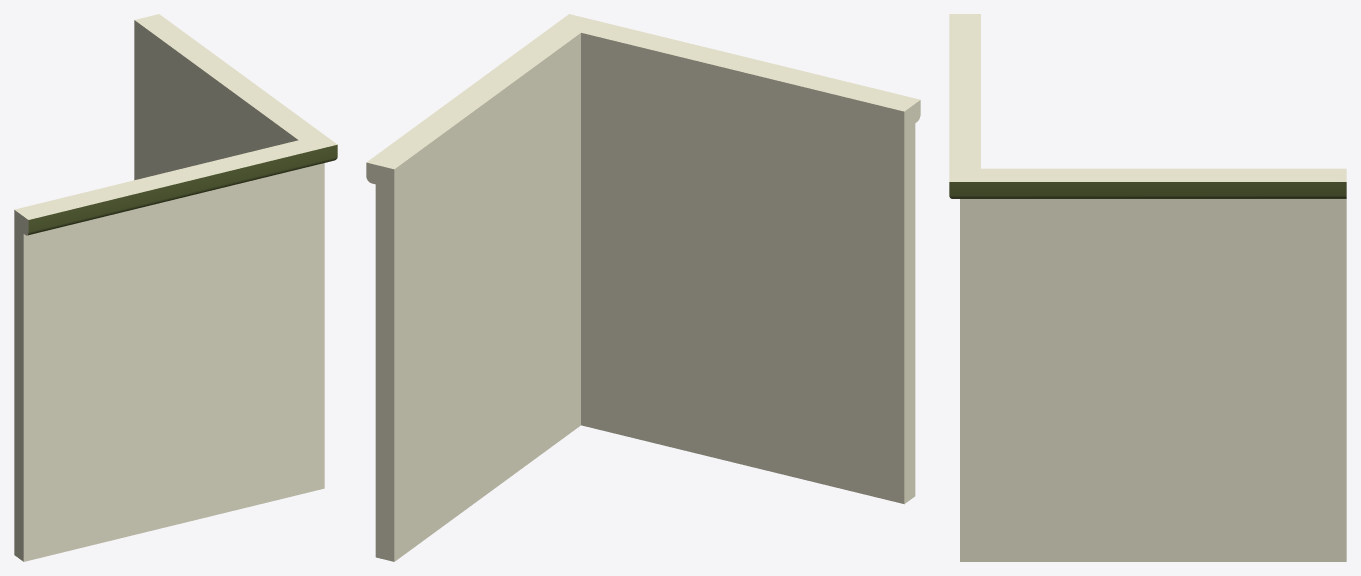
The model's file is Modular_02_corner_01.fbx.
3 views of the same model, side by side, from view 1: azimuth 30°, elevation 25°; view 2: azimuth 150°, elevation 25°; view 3: azimuth 270°, elevation 25° (orthographic). The views are drawn at different scales.
Parts seen in each view (by area): view 1: Modular_02_Corner_01; view 2: Modular_02_Corner_01; view 3: Modular_02_Corner_01.
Boxes of the visible parts, box(x1,y1,x2,y2) form: Modular_02_Corner_01: box(14, 14, 337, 561); Modular_02_Corner_01: box(366, 14, 920, 561); Modular_02_Corner_01: box(949, 14, 1346, 561).
Size of the model in its own units: 187 by 200 by 187.
